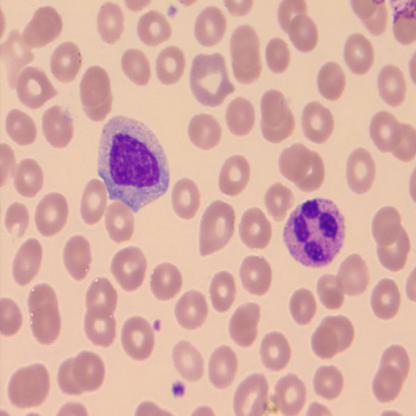Metamyelocyte: (94, 113, 172, 215)
